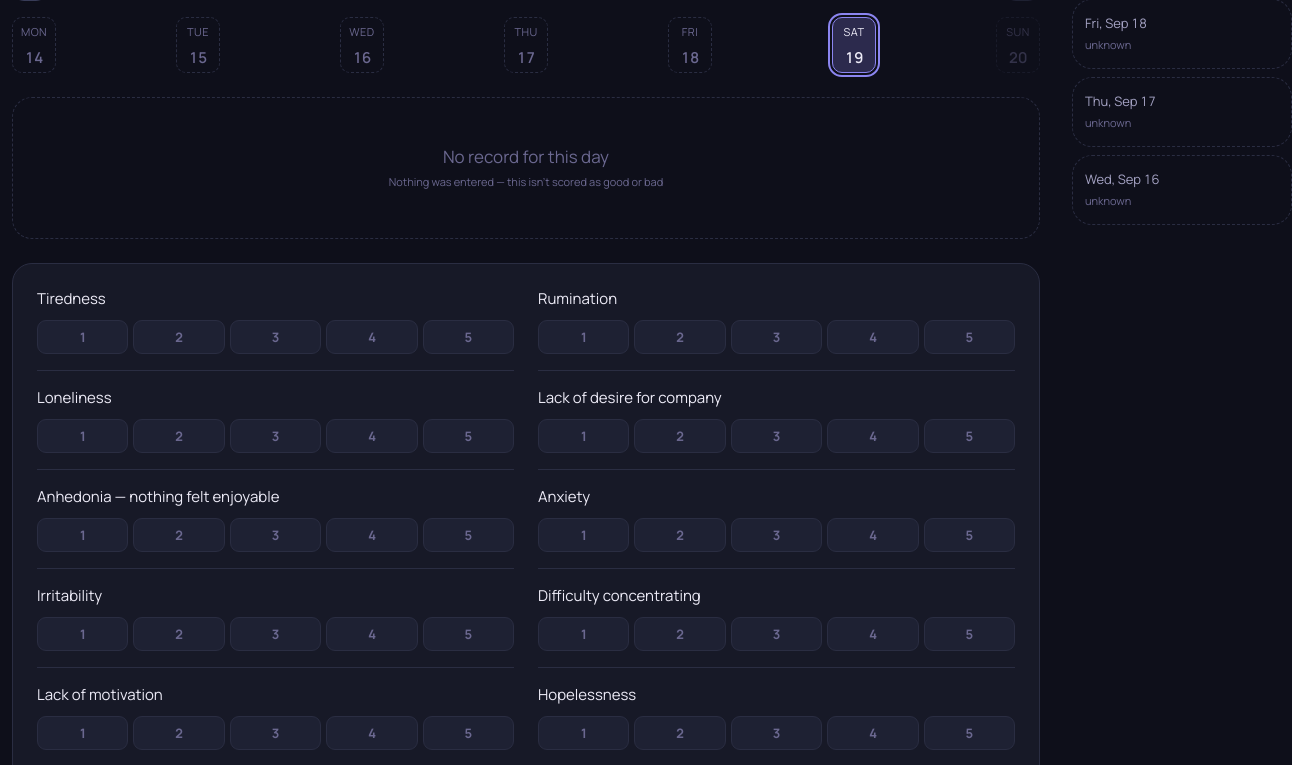
Test: progress is stated plainly and nothing is written until all 11 are scored (R-03)
expect the text "Tiredness" is shown: met, box left=37, top=288, right=106, bottom=309
Click the radio button labelled "3" below "Tiredness".
click(276, 337)  # box left=230, top=320, right=321, bottom=354
(page scrolled)
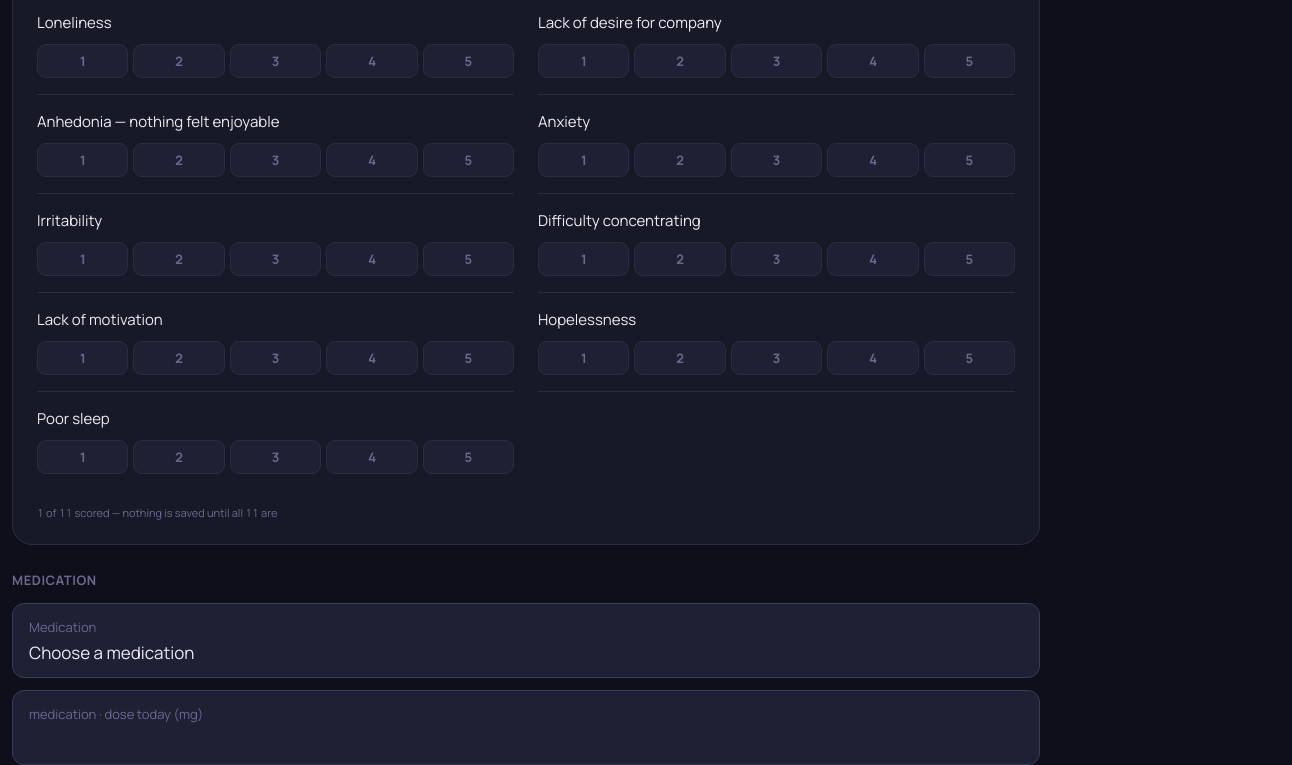
expect the text "1 of 11 scored — nothing is saved until all 11 are" is shown: met, box left=37, top=505, right=277, bottom=520
